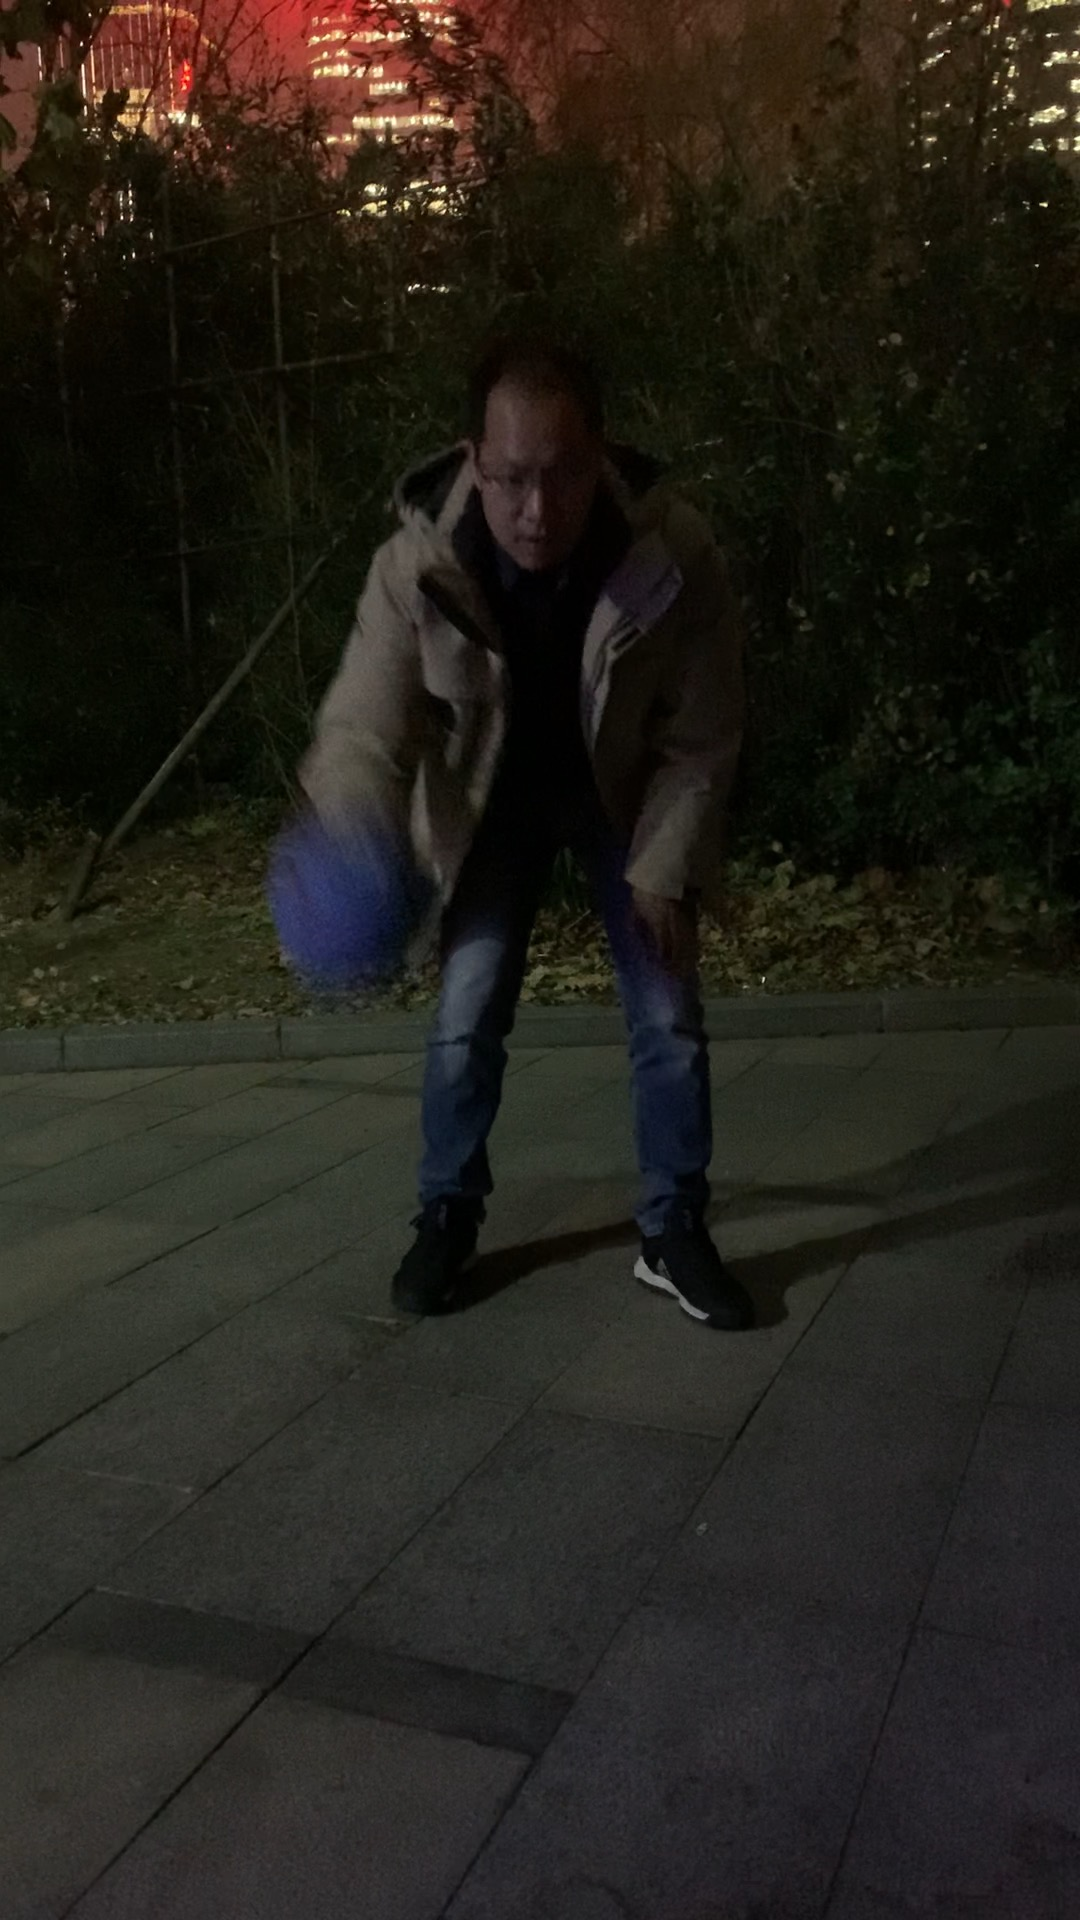ball: (272, 822, 434, 984)
